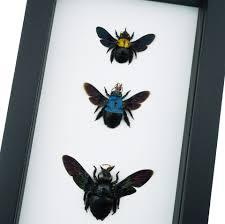Xylocopa: (60, 151, 155, 224), (83, 78, 157, 132), (93, 22, 155, 66)
